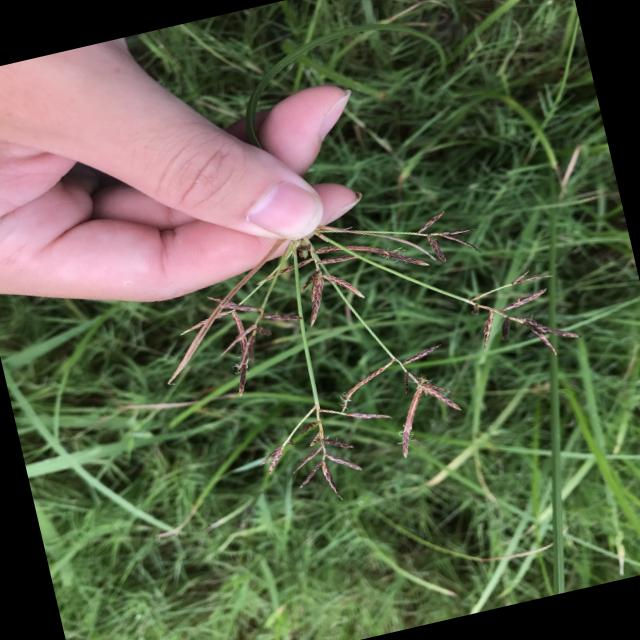cyperus: (141, 162, 612, 534)
